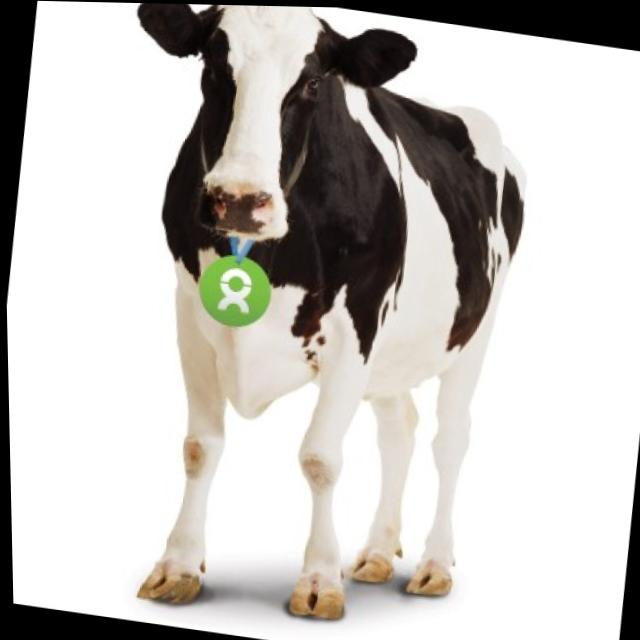cowFace: (94, 2, 426, 269)
